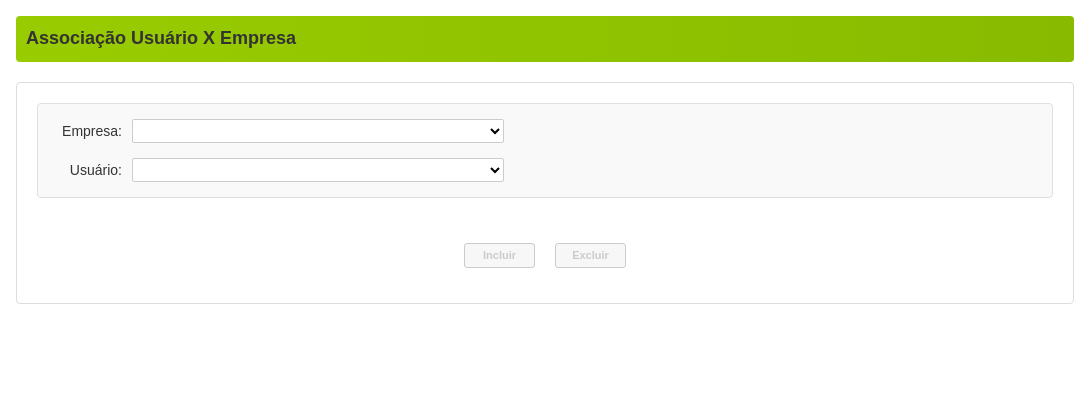
UserAssociation Component › Exibição de Associações › deve exibir mensagem quando não há associações
Select "1" in the dropdown next to "Empresa:": (318, 131) [132,119,504,143]
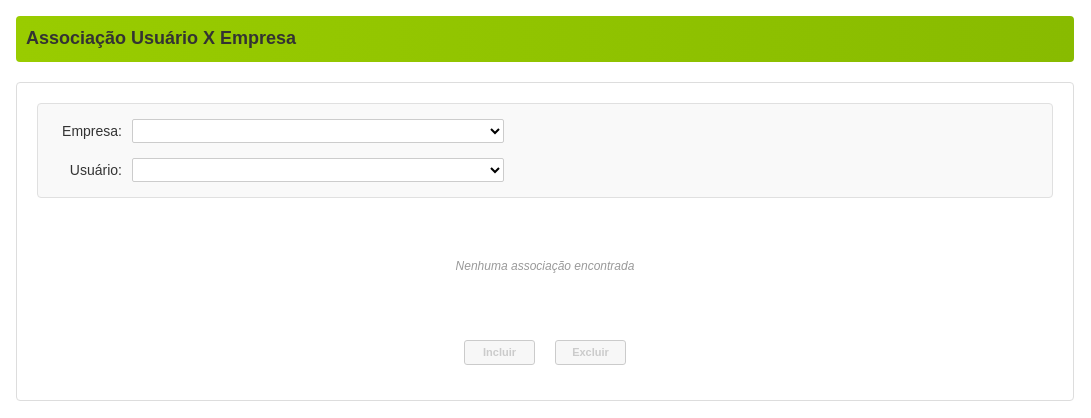
Result: the text "Nenhuma associação encontrada" is shown at [456,259,634,273]
